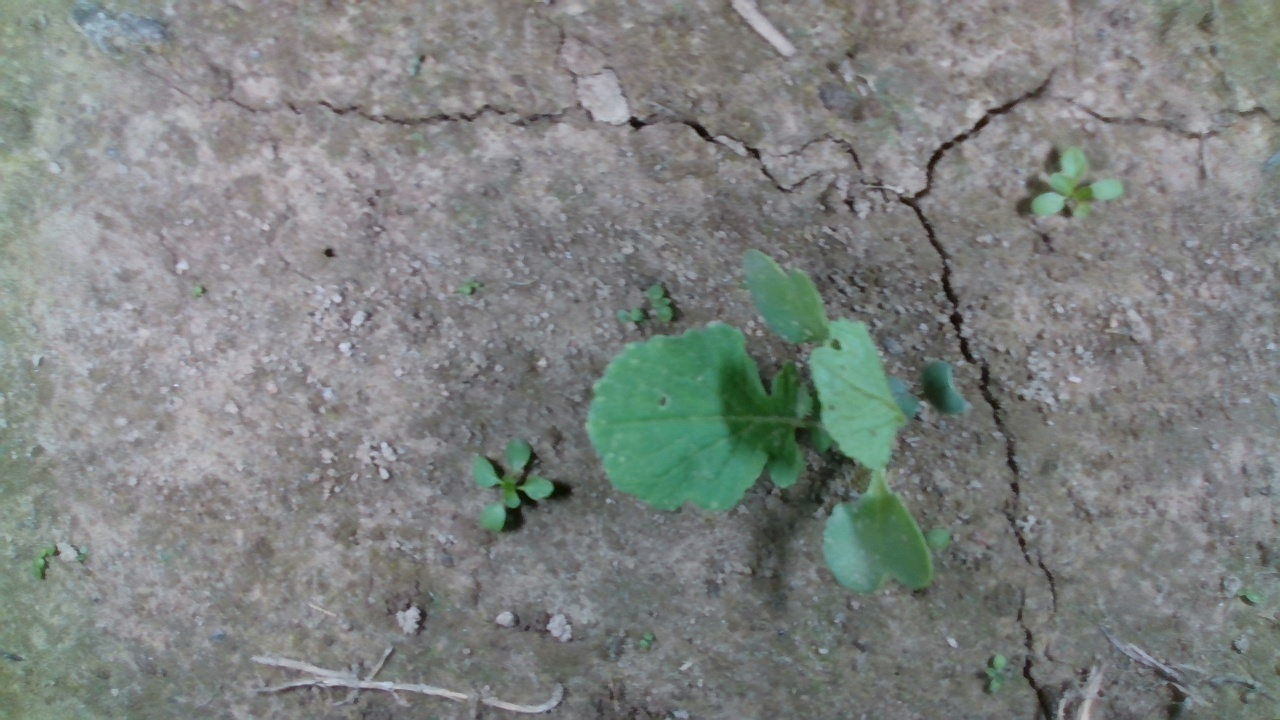weed: (983, 651, 1012, 693), (647, 282, 675, 323), (614, 306, 645, 323), (638, 630, 655, 651)
